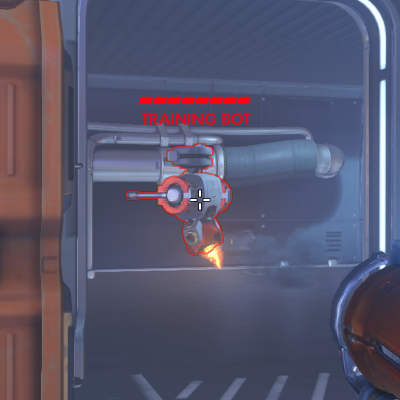hpbar: (138, 96, 251, 105)
